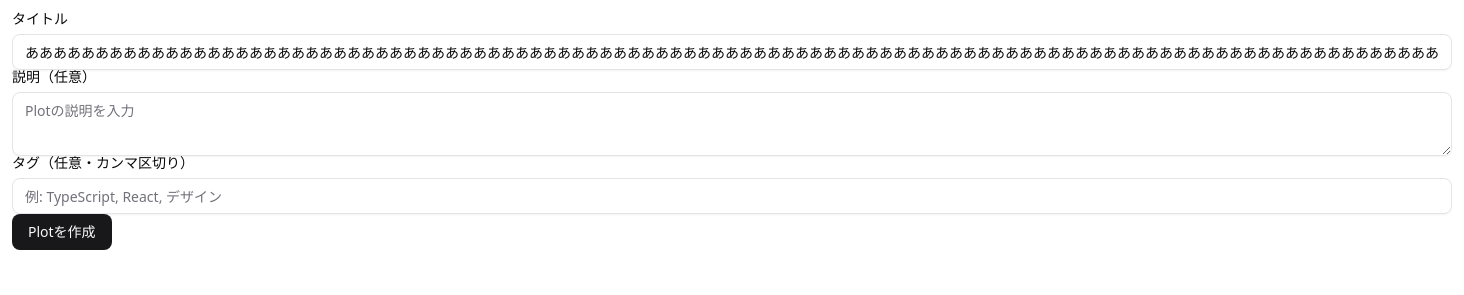
it: PlotForm › 200文字超えでバリデーションエラーが表示される
This screenshot has width=1464, height=295.
Step 1. Click the button "Plotを作成" → (62, 232), box left=12, top=214, right=112, bottom=250
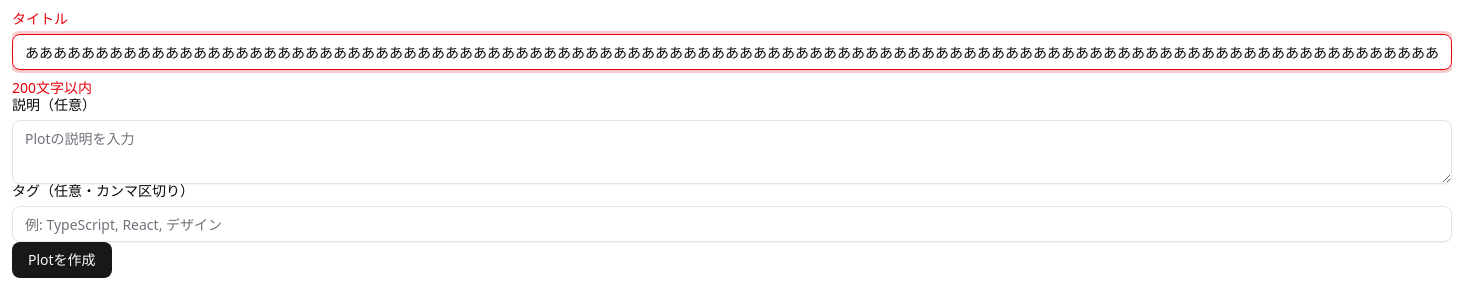
Now the text "200文字以内" is shown, box left=12, top=78, right=92, bottom=97
